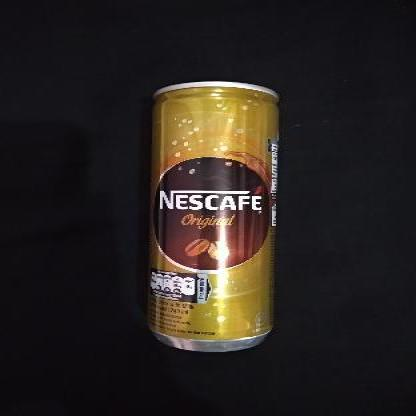alumunium_can: (146, 82, 282, 359)
